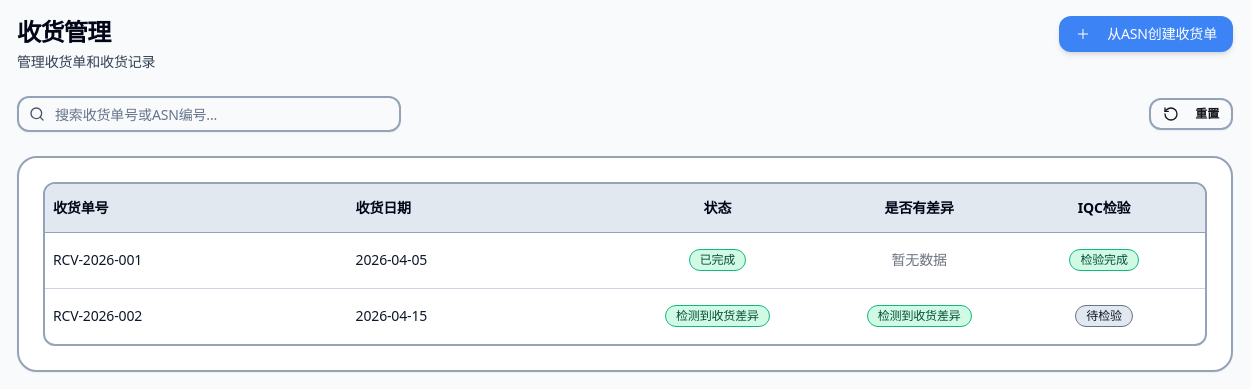
Test: ReceivingListPage › 应该支持搜索功能
Check: the text "RCV-2026-001" is shown, box [45,232,348,288]
Type "RCV-2026-001" into the search field with placeholder "搜索收货单号或ASN编号..." at (209, 114), box [17,96,401,132]
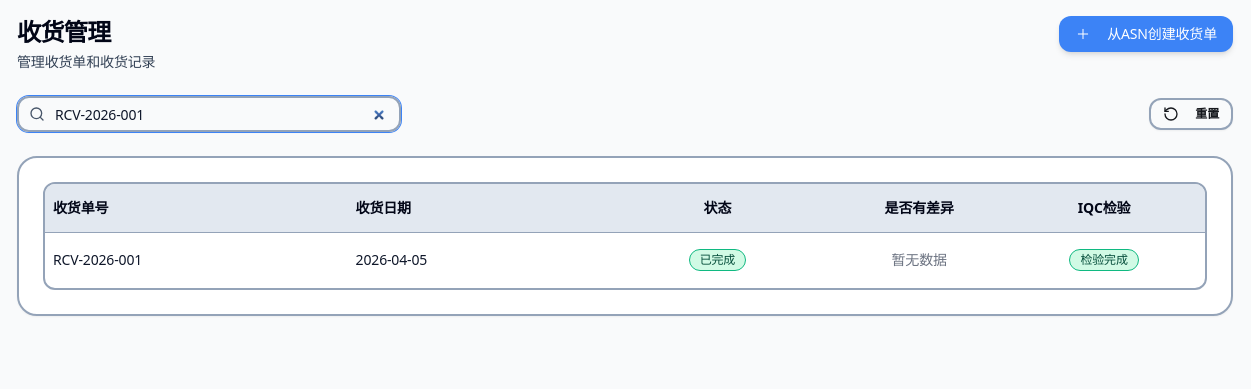
Check: the text "RCV-2026-001" is shown, box [45,232,348,288]
Check: the text "RCV-2026-002" is gone
